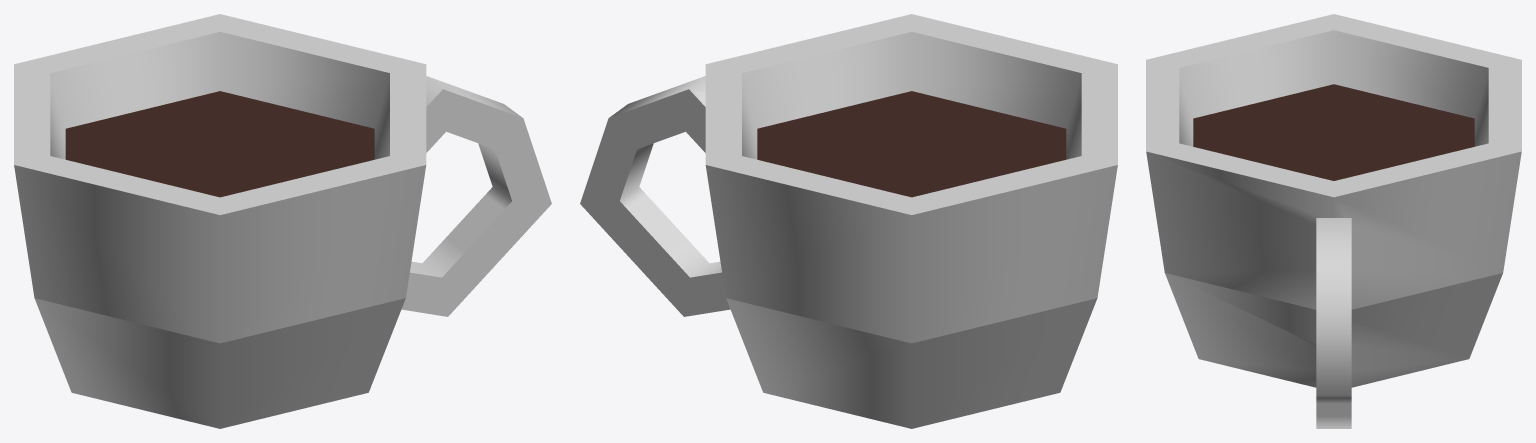
File: cupTea.obj
3 renders of one model, left to right at view 1: azimuth 30°, elevation 25°; view 2: azimuth 150°, elevation 25°; view 3: azimuth 270°, elevation 25°, orthographic. The views are drawn at different scales.
Visible parts, largest first — view 1: cupTea; view 2: cupTea; view 3: cupTea.
Part boxes in pixels (<box>): cupTea: <box>14,14,551,428</box>; cupTea: <box>580,14,1117,428</box>; cupTea: <box>1146,14,1521,428</box>.
Size of the model in its own units: 0.3199 by 0.1438 by 0.2163.
